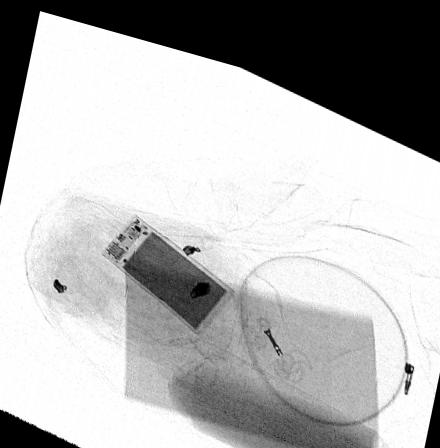Powerbank: (99, 205, 235, 323)
